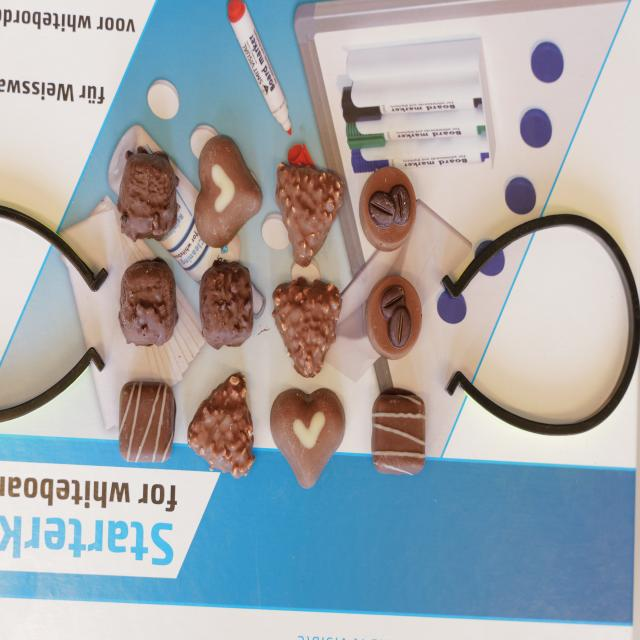Arabia: (359, 165, 417, 252), (366, 277, 422, 358)
Passion_au_lait: (271, 388, 346, 491), (195, 135, 262, 247)
Stracciatella: (370, 390, 427, 476), (120, 380, 175, 466)
Tentation_noir: (118, 147, 179, 239), (120, 258, 176, 346), (200, 260, 253, 348)
Triangolo: (276, 163, 346, 265), (188, 374, 255, 480), (272, 278, 342, 378)
